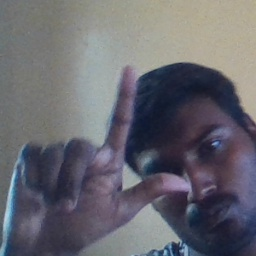L: (5, 63, 191, 255)
